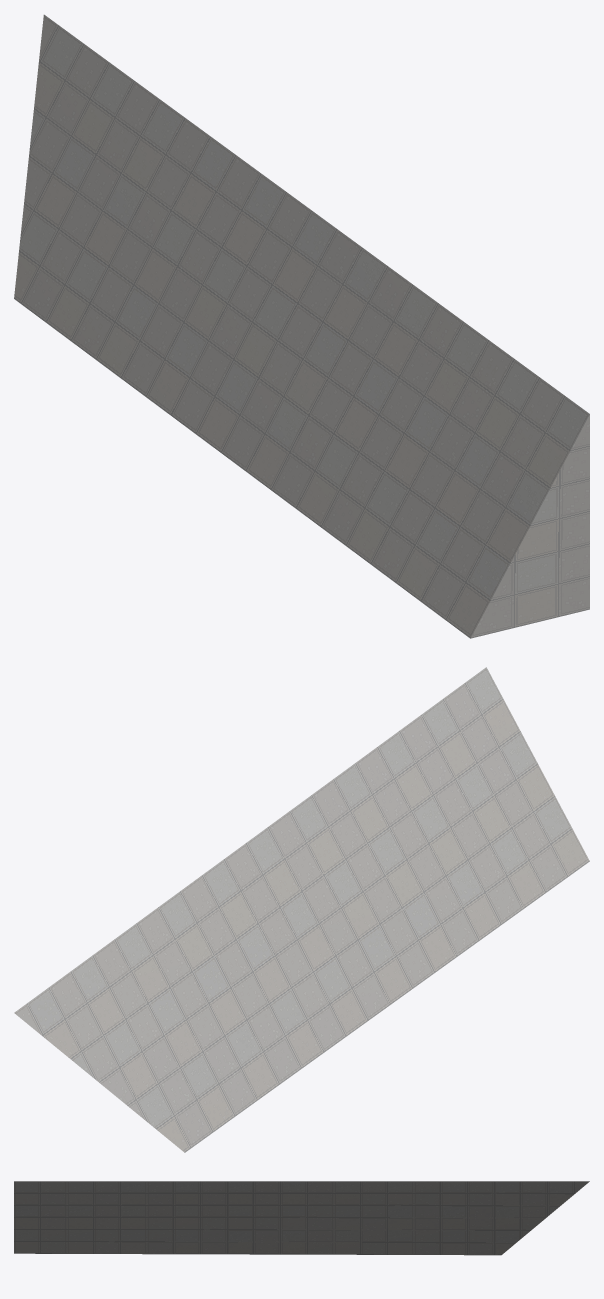
The model's file is kd_stage_135d18_3_16_bounded.glb.
The picture shows the model from 3 angles, top to bottom: view 1: azimuth 30°, elevation 25°; view 2: azimuth 150°, elevation 25°; view 3: azimuth 270°, elevation 25°; orthographic projection. The views are drawn at different scales.
Parts seen in each view (by area): view 1: kd_stage_135d18_3_16_bounded; view 2: kd_stage_135d18_3_16_bounded; view 3: kd_stage_135d18_3_16_bounded.
Part boxes in pixels (box(x1,y1,x2,y2)): kd_stage_135d18_3_16_bounded: box(14, 14, 589, 638); kd_stage_135d18_3_16_bounded: box(14, 667, 589, 1152); kd_stage_135d18_3_16_bounded: box(14, 1181, 589, 1255).
Size of the model in its own units: 1.79 by 2.8 by 14.18.
Materials: 1 (1 with a texture image).
